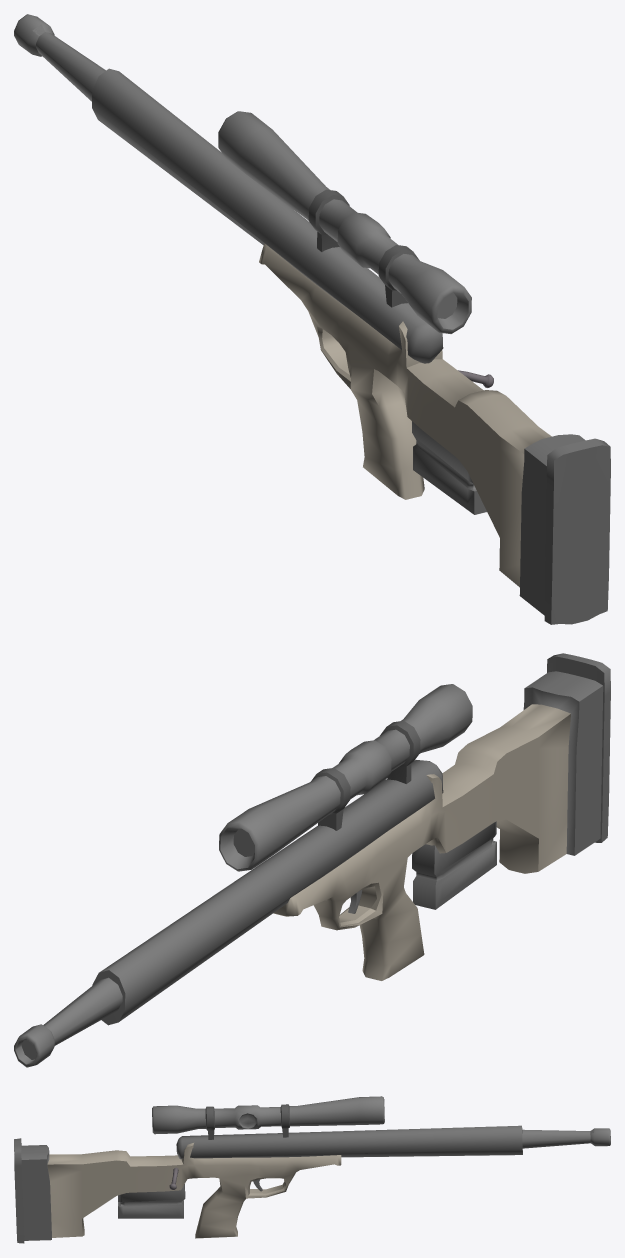
Rendered from sniper2.fbx.
3 renders of one model, top to bottom at view 1: azimuth 30°, elevation 25°; view 2: azimuth 150°, elevation 25°; view 3: azimuth 270°, elevation 25°, orthographic. The views are drawn at different scales.
Visible parts, largest first — view 1: Sniper02; view 2: Sniper02; view 3: Sniper02.
Boxes of the visible parts, x1,y1,x2,y2 form: Sniper02: (14, 14, 610, 624); Sniper02: (14, 653, 610, 1067); Sniper02: (14, 1096, 610, 1243).
Bounding box in the file's own units: 0.0911 × 0.2617 × 1.
